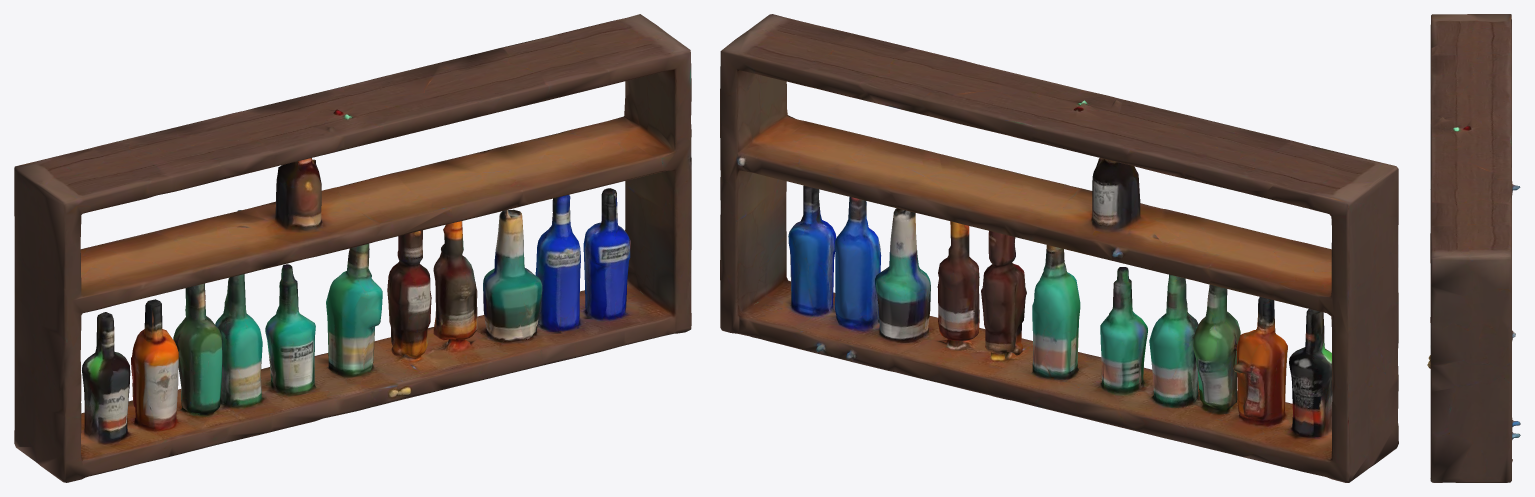
Rendered from bar-backbar-shelf.glb.
The picture shows the model from 3 angles, left to right: view 1: azimuth 30°, elevation 25°; view 2: azimuth 150°, elevation 25°; view 3: azimuth 270°, elevation 25°; orthographic projection. The views are drawn at different scales.
Bounding box in the file's own units: 2 × 0.8684 × 0.3222.
Materials: 1 (1 with a texture image).
